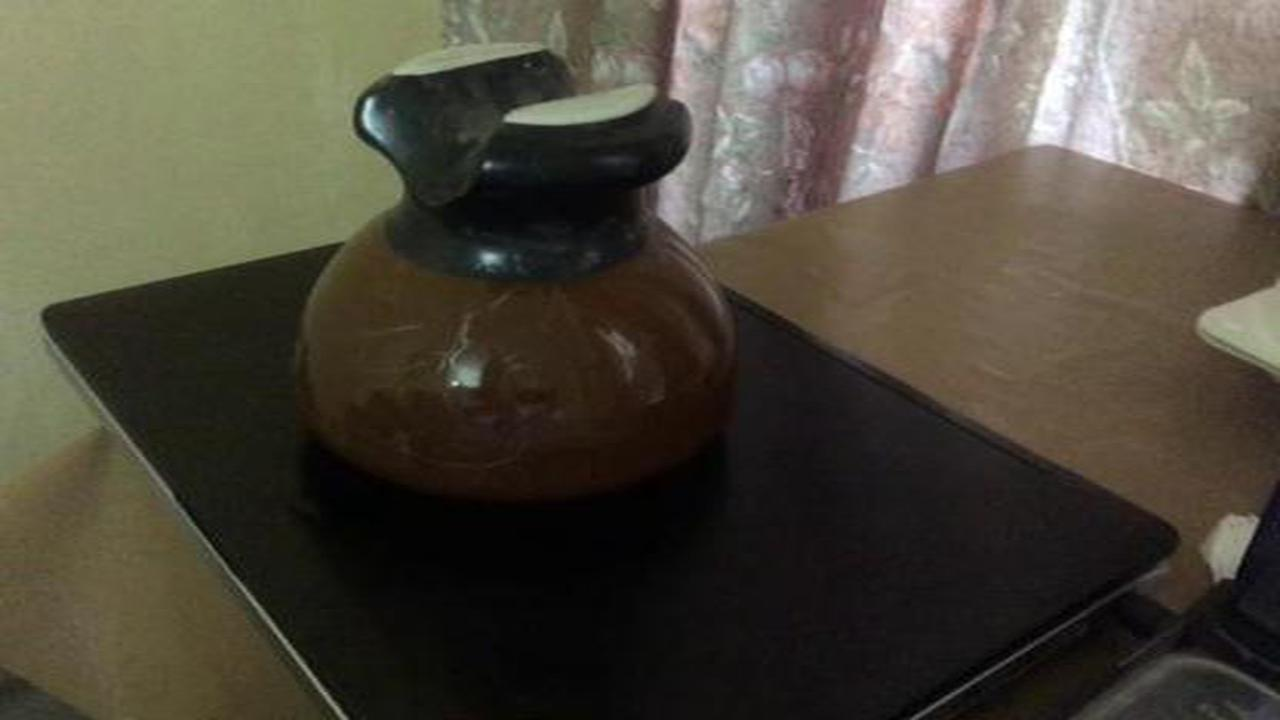insulator_pin: (281, 32, 767, 527)
